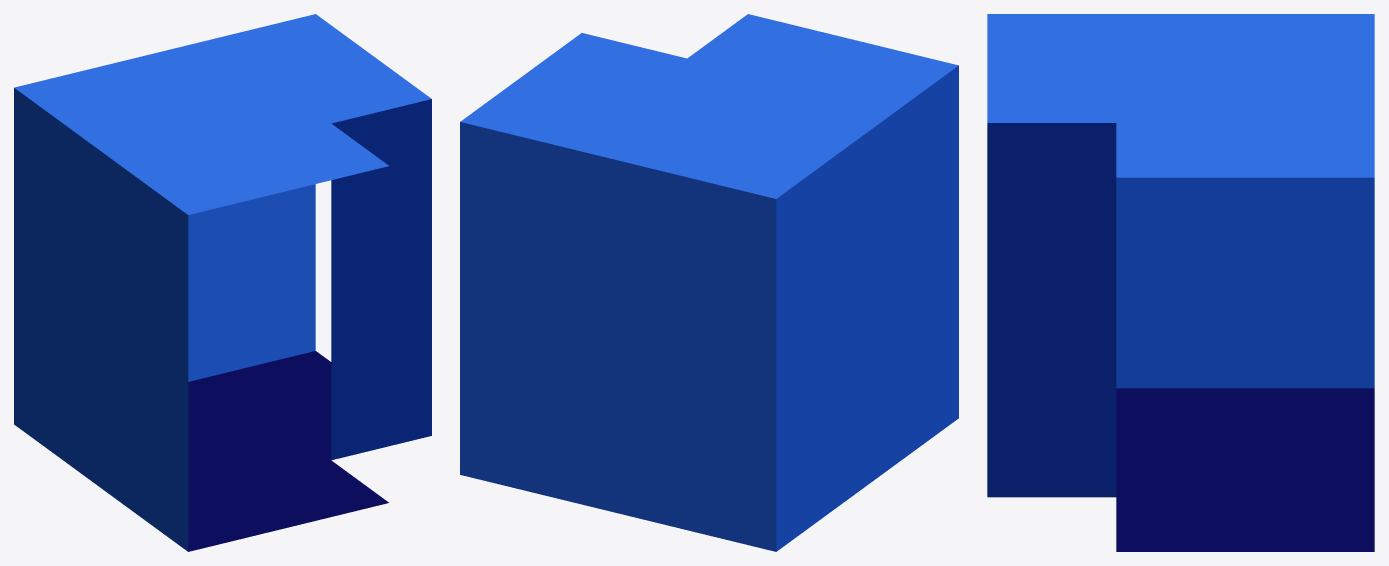
The model's file is wall_corner_right_down.glb.
3 renders of one model, left to right at view 1: azimuth 30°, elevation 25°; view 2: azimuth 150°, elevation 25°; view 3: azimuth 270°, elevation 25°, orthographic. The views are drawn at different scales.
Parts seen in each view (by area): view 1: wall_corner_right_down; view 2: wall_corner_right_down; view 3: wall_corner_right_down.
Boxes of the visible parts, x1,y1,x2,y2 form: wall_corner_right_down: (14, 14, 431, 551); wall_corner_right_down: (460, 14, 958, 551); wall_corner_right_down: (987, 14, 1374, 551).
Size of the model in its own units: 0.75 by 0.8 by 0.75.
